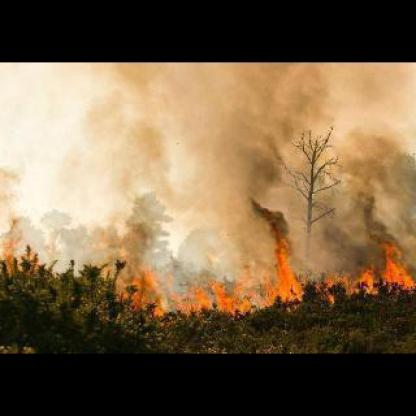fire: (113, 241, 416, 317)
